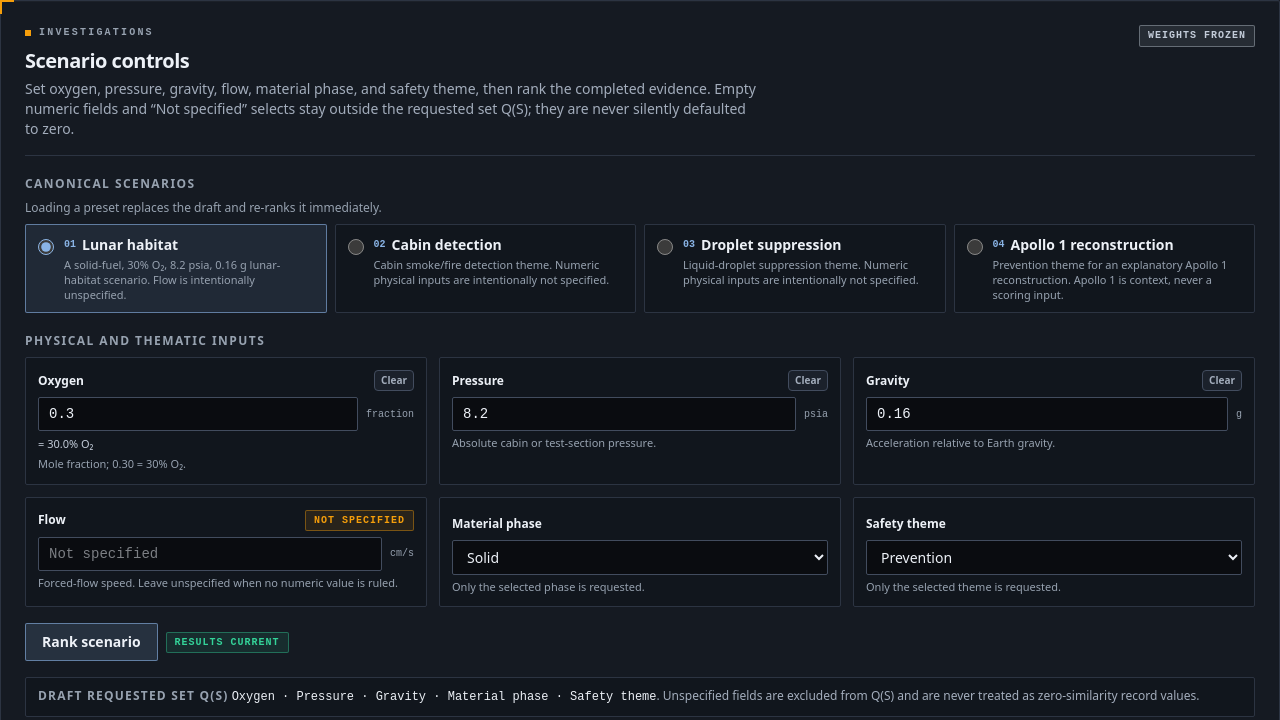
Test: InvestigationsPanel scenario controls and results › produces visibly different, explainable results for all four canonical scenarios
The width and height of the screenshot is (1280, 720).
// Scenario B — cabin detection.
Step 1. Click the radio button labelled "Cabin detection" → click(356, 246), box 348,238 -> 364,254
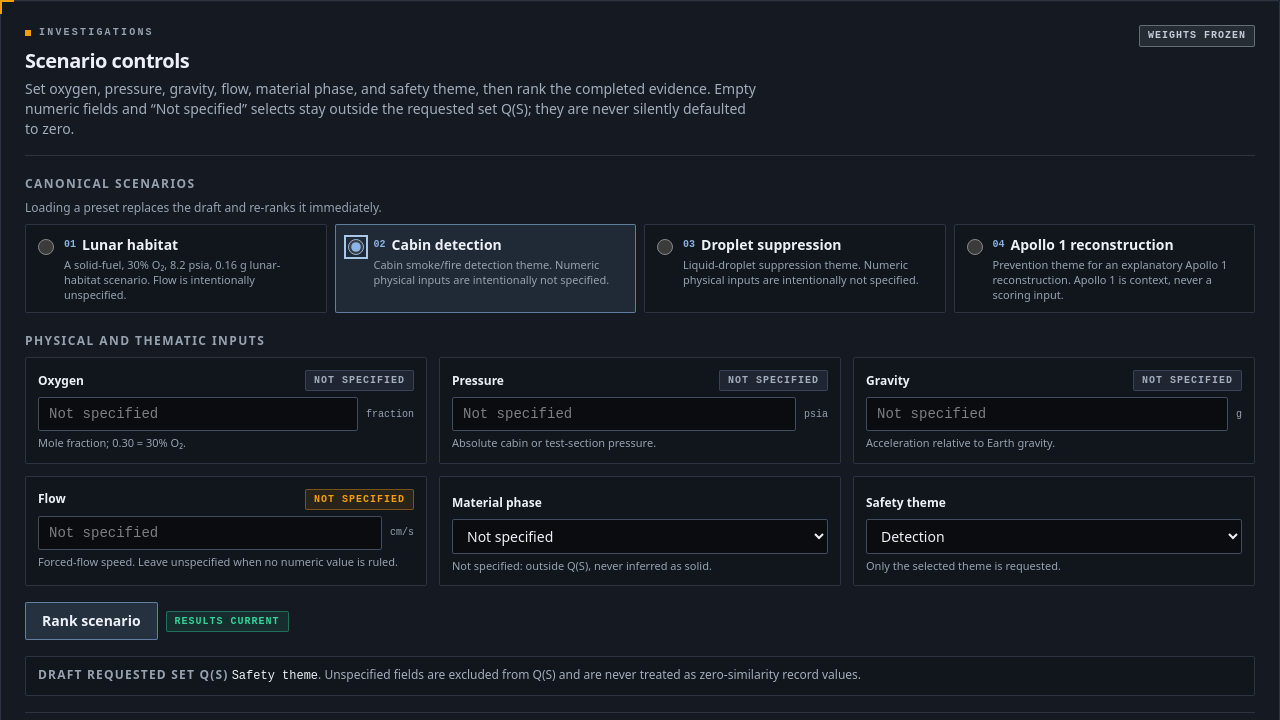
// Scenario C — droplet suppression.
Step 2. Click the radio button labelled "Droplet suppression" → click(665, 246), box 657,238 -> 673,254
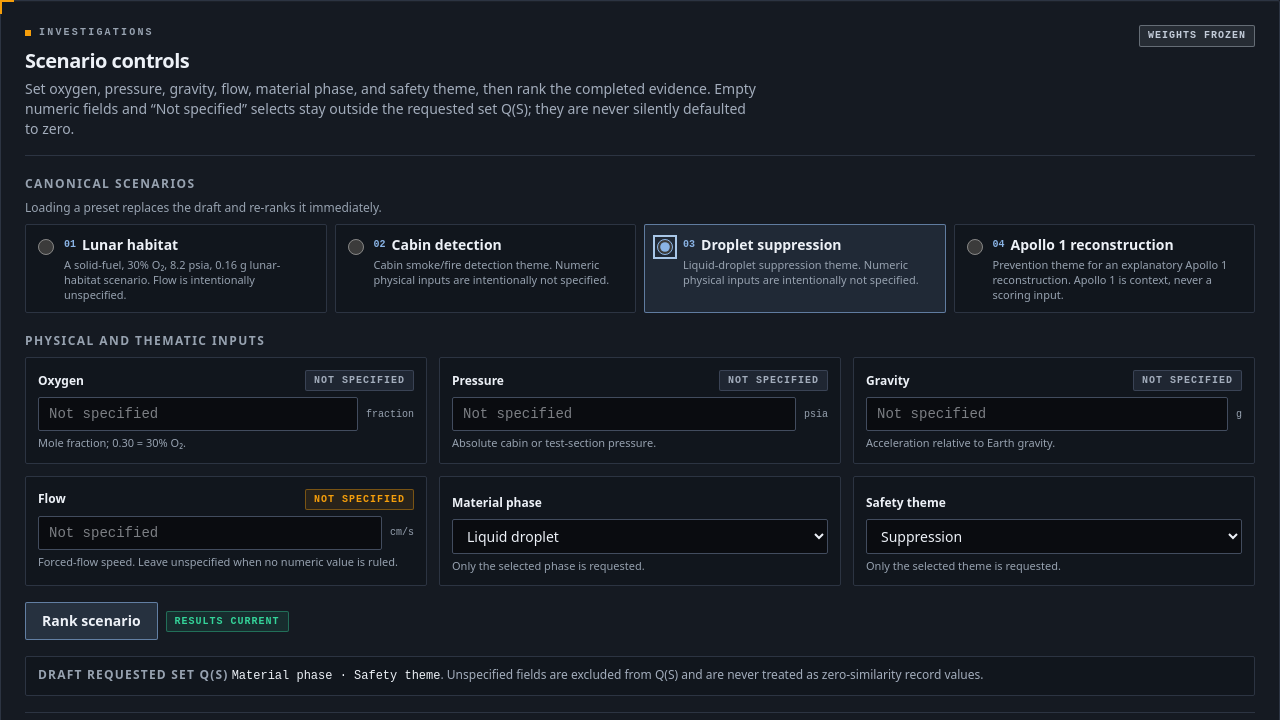
// Scenario D — Apollo 1 reconstruction.
Step 3. Click the radio button labelled "Apollo 1 reconstruction" → click(974, 246), box 966,238 -> 982,254
(page scrolled)
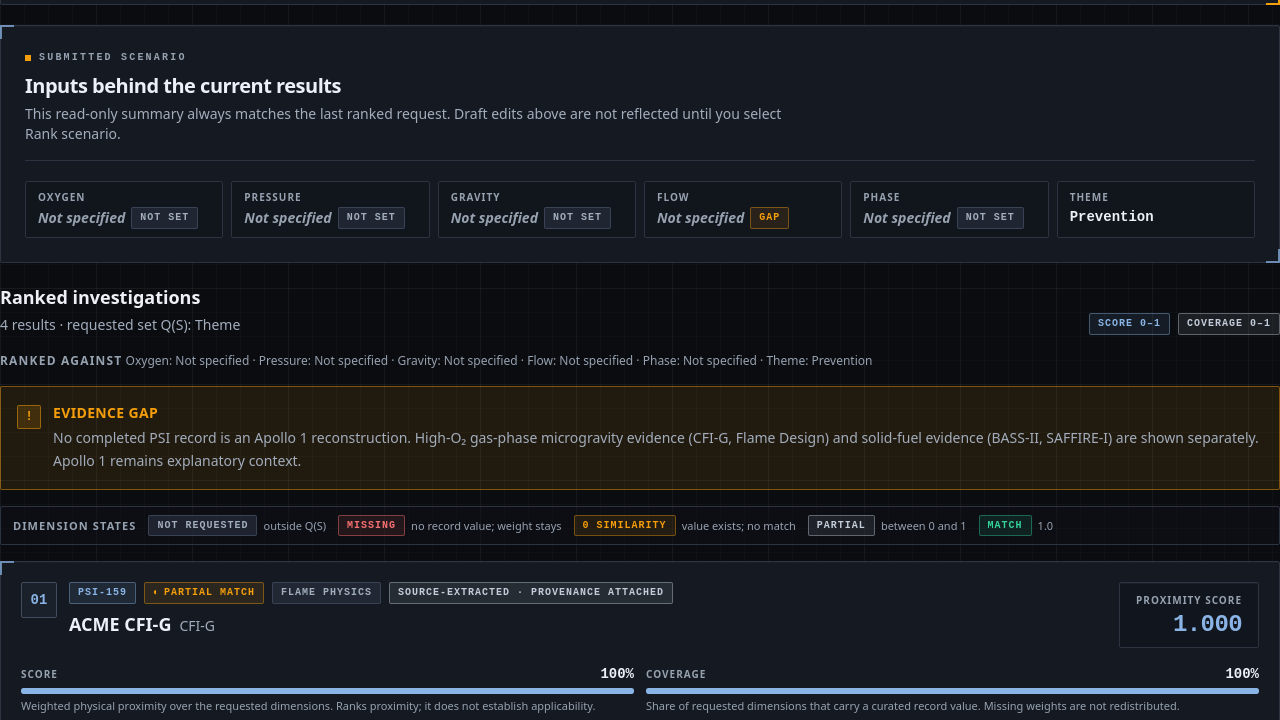
Expected: the text "Apollo 1 remains explanatory context" is shown, 53,428 -> 1259,470
Expected: the text "CFI-G" is shown, 179,616 -> 215,635
Expected: the text "Theme: Prevention" is shown, 126,352 -> 872,369
